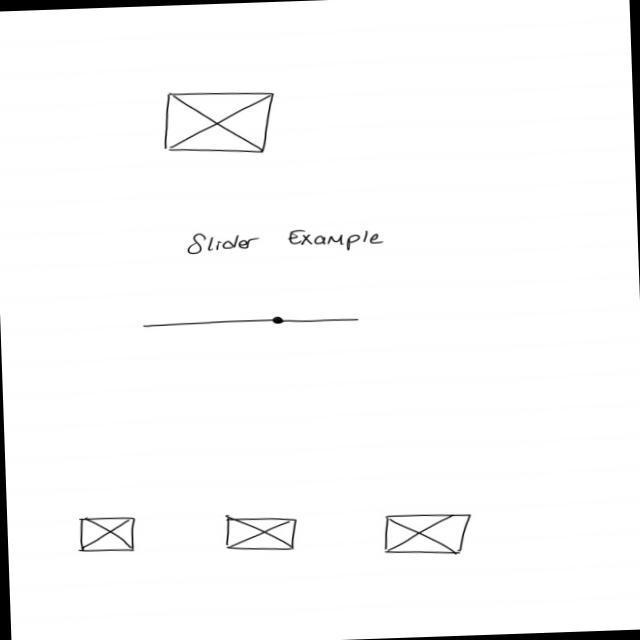image: (161, 90, 279, 158), (381, 511, 474, 559), (222, 514, 301, 555), (77, 515, 140, 556)
label: (184, 225, 389, 259)
slider: (141, 313, 362, 333)
